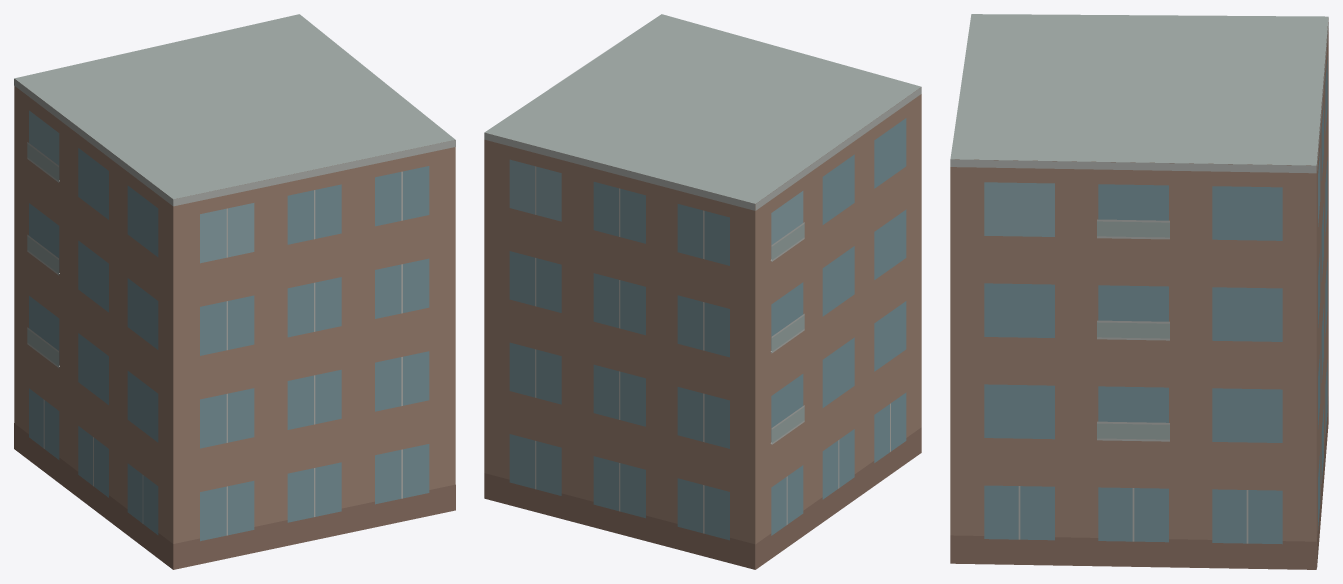
The model's file is survey-upis-32910209.glb.
3 views of the same model, side by side, from view 1: azimuth 30°, elevation 25°; view 2: azimuth 150°, elevation 25°; view 3: azimuth 270°, elevation 25° (orthographic). The views are drawn at different scales.
Parts seen in each view (by area): view 1: survey-upis-32910209.tmp; view 2: survey-upis-32910209.tmp; view 3: survey-upis-32910209.tmp.
Part boxes in pixels (box(x1,y1,x2,y2)): survey-upis-32910209.tmp: box(14, 14, 455, 569); survey-upis-32910209.tmp: box(484, 14, 921, 569); survey-upis-32910209.tmp: box(950, 14, 1328, 569).
Size of the model in its own units: 10.24 by 12.73 by 10.8.
